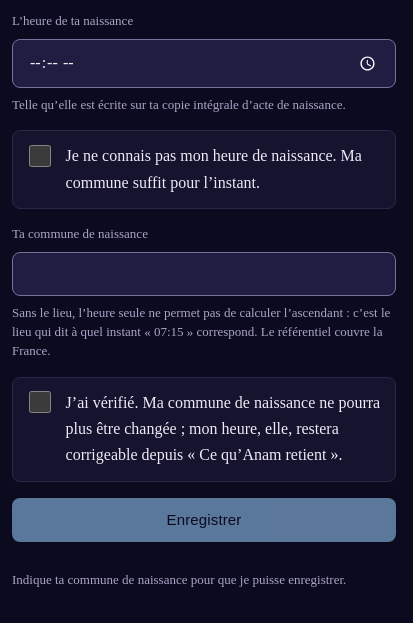
Test: [QA T18] la commune non choisie s'explique › ⚠️ quelque chose de TAPÉ mais rien de choisi : le message change
Type "Zzzzville-sur-Néant" into the dropdown with id "recherche_lieu" at [204, 274], box [12,252,396,296]
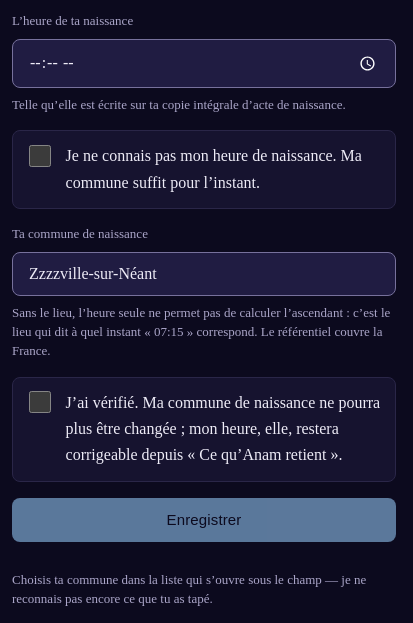
expect the button "Enregistrer" is disabled: met, box [12,498,396,542]
expect the text "je ne reconnais pas encore ce que tu as tapé" is shown: met, box [12,572,366,606]
expect the text "Indique ta commune de naissance" is gone: met
